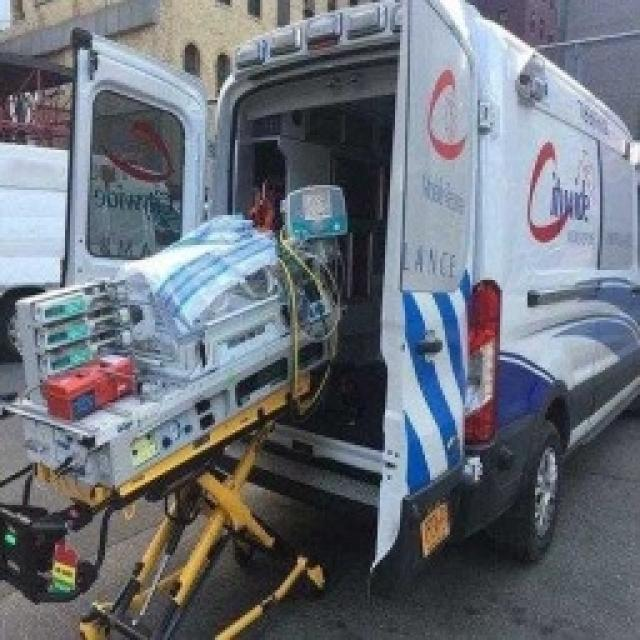emergency-vehicle: (55, 0, 640, 606)
